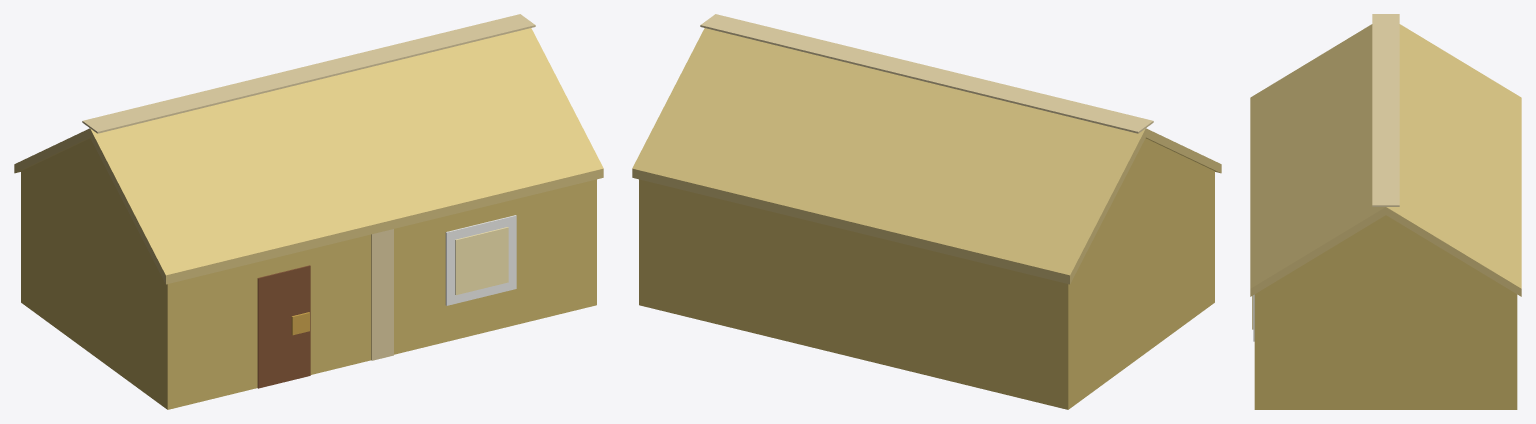
File: rental_family.glb
3 renders of one model, left to right at view 1: azimuth 30°, elevation 25°; view 2: azimuth 150°, elevation 25°; view 3: azimuth 270°, elevation 25°, orthographic. The views are drawn at different scales.
Parts seen in each view (by area): view 1: rental_family_Body; view 2: rental_family_Body; view 3: rental_family_Body.
Part boxes in pixels (x1=…): rental_family_Body: x1=14, y1=14, x2=603, y2=409; rental_family_Body: x1=632, y1=14, x2=1221, y2=409; rental_family_Body: x1=1250, y1=14, x2=1521, y2=409.
Size of the model in its own units: 1 by 0.504 by 0.6.
